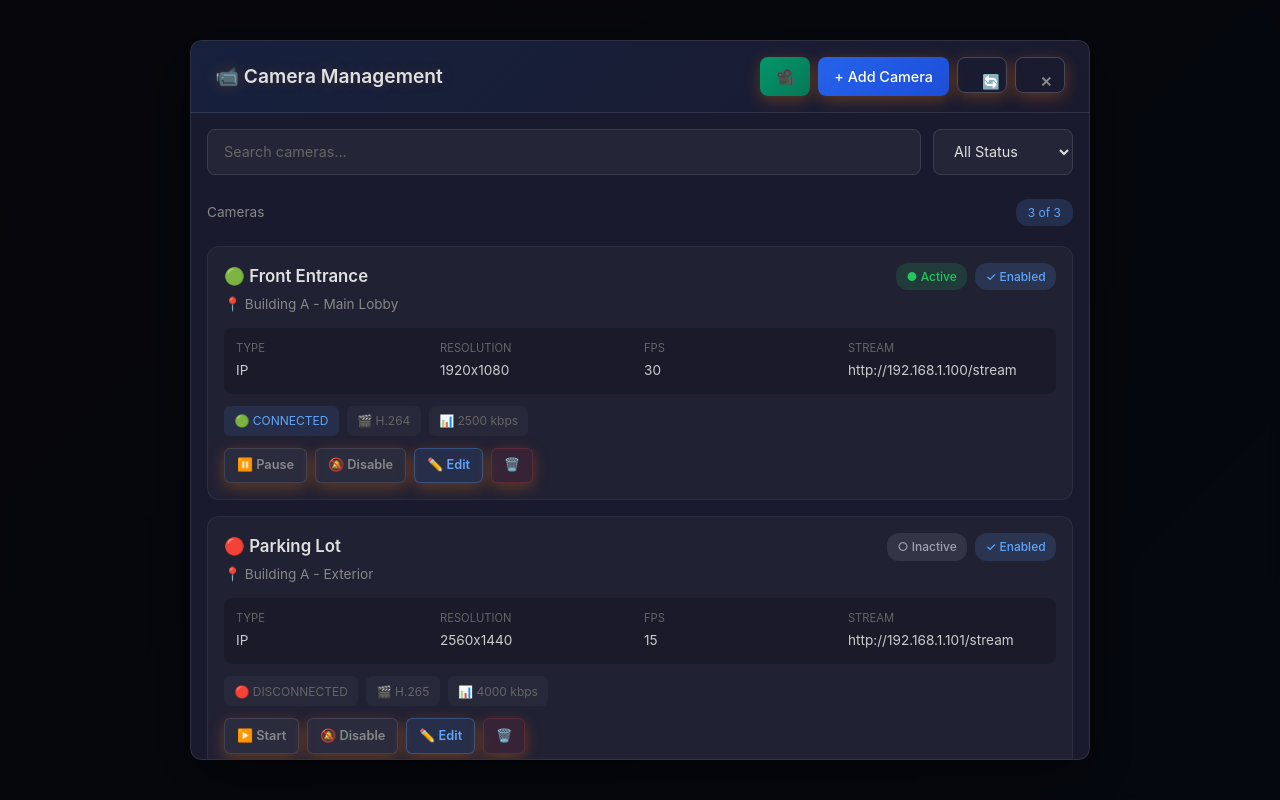
Test: CameraManager Component › Add Camera › opens add form when Add Camera button is clicked
Click the button "+ Add Camera": (884, 76) x1=818 y1=57 x2=949 y2=96
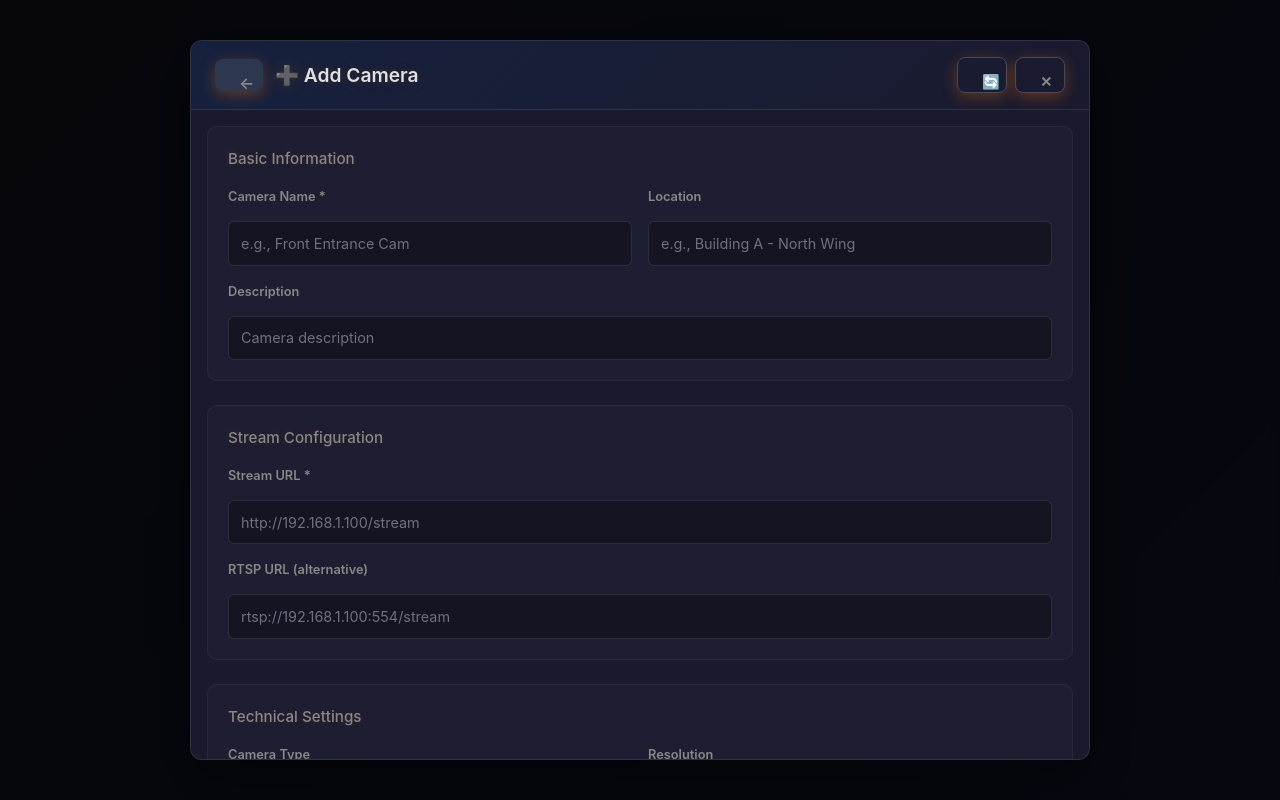
Expected: the heading "➕ Add Camera" is shown, x1=275 y1=60 x2=418 y2=90
